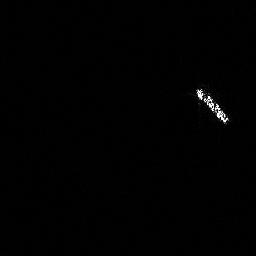ship: (192, 83, 233, 127)
